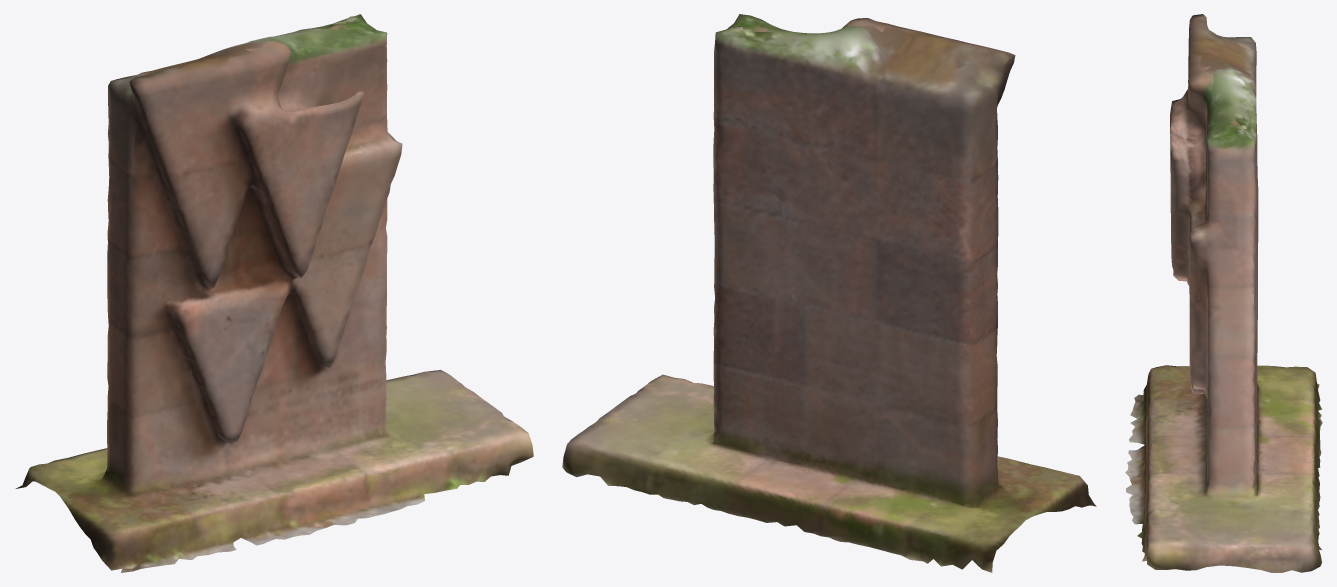
The picture shows the model from 3 angles, left to right: view 1: azimuth 30°, elevation 25°; view 2: azimuth 150°, elevation 25°; view 3: azimuth 270°, elevation 25°; orthographic projection. The views are drawn at different scales.
Visible parts, largest first — view 1: texturedMesh_2k_35k; view 2: texturedMesh_2k_35k; view 3: texturedMesh_2k_35k.
Boxes of the visible parts, x1,y1,x2,y2 form: texturedMesh_2k_35k: (15,14,533,572); texturedMesh_2k_35k: (562,14,1096,572); texturedMesh_2k_35k: (1125,14,1322,572).
Bounding box in the file's own units: 1.51 × 1.51 × 0.6731.
Materials: 1 (1 with a texture image).
